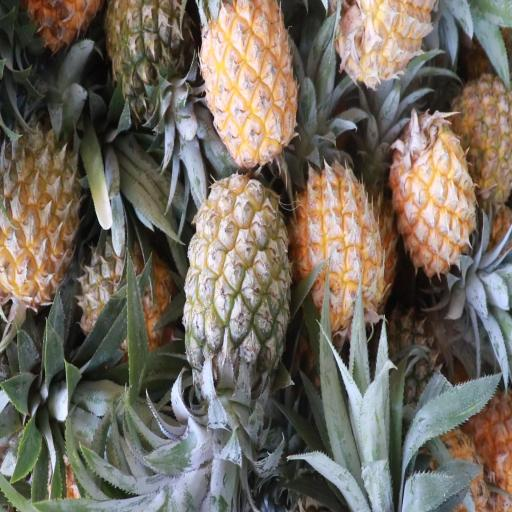------------------------------: (185, 172, 290, 391), (81, 233, 176, 359)
Pineapple - v8 v1: (0, 116, 84, 298), (200, 0, 297, 154), (296, 164, 384, 330), (392, 106, 477, 276)
